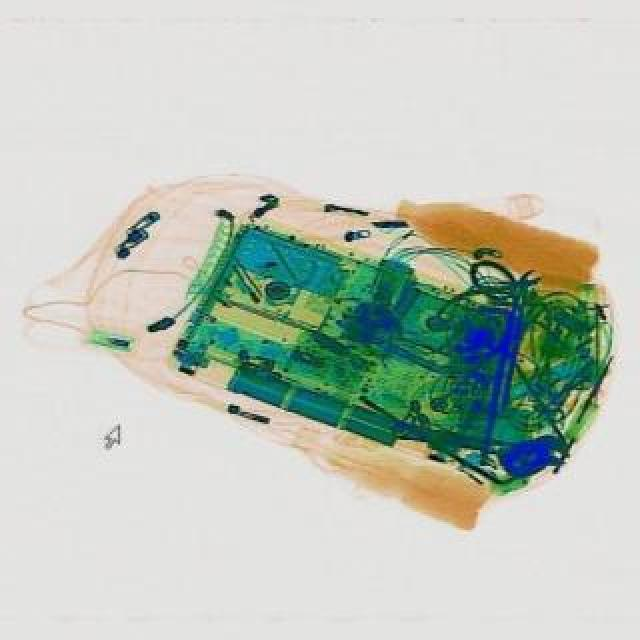scissors: (394, 410, 576, 472)
wrench: (430, 246, 562, 362)
